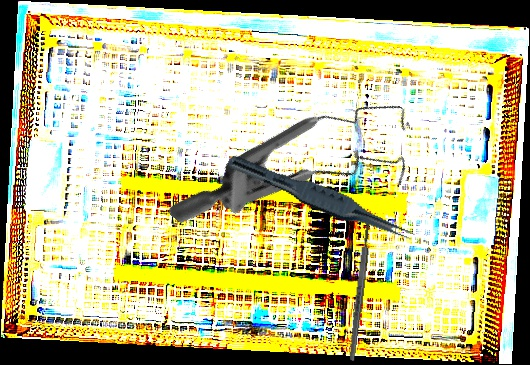Scalpel Handle: (347, 221, 373, 362)
Speculum: (166, 33, 439, 316)
Tissue Forceps: (222, 152, 420, 247)
